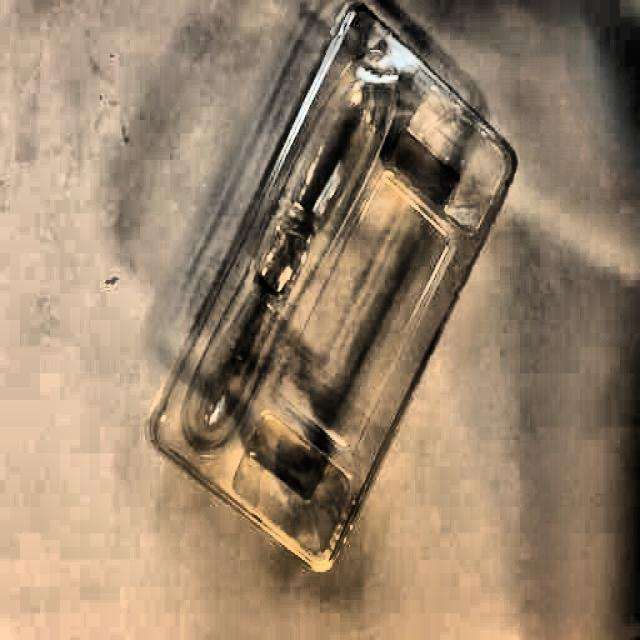plastic: (161, 11, 500, 566)
